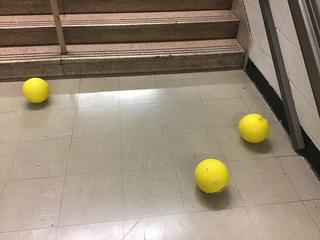power_cell: (191, 155, 234, 199), (238, 113, 271, 141), (20, 76, 51, 105)
